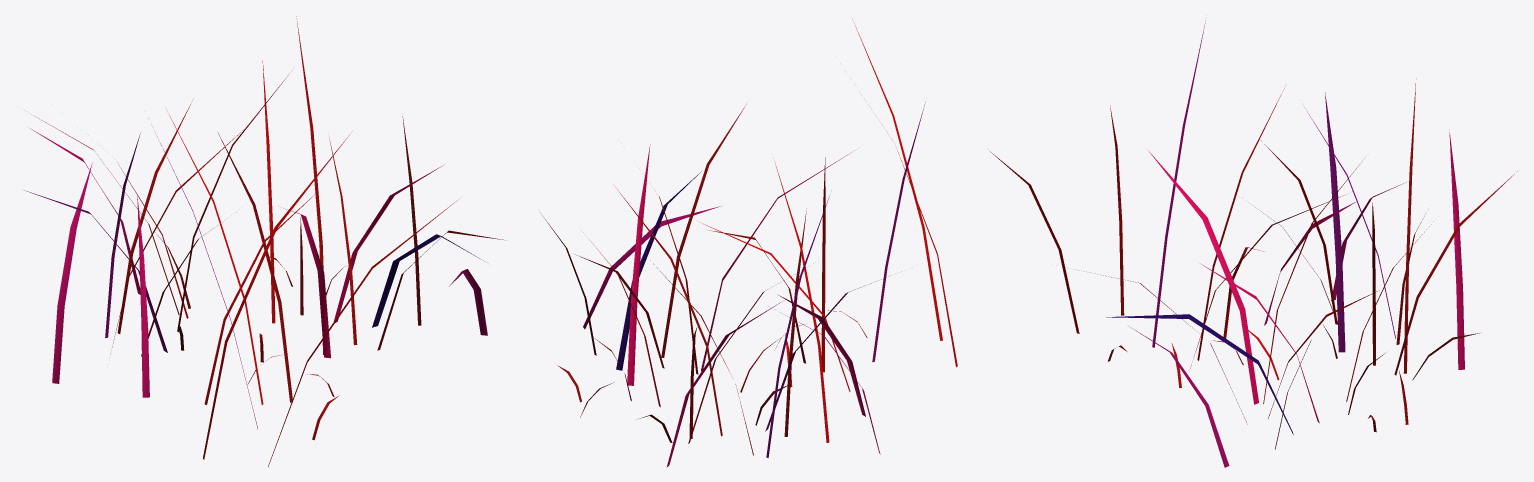
File: GrassTuft1.glb
3 views of the same model, side by side, from view 1: azimuth 30°, elevation 25°; view 2: azimuth 150°, elevation 25°; view 3: azimuth 270°, elevation 25° (orthographic). The views are drawn at different scales.
Parts seen in each view (by area): view 1: GrassTuft1_lod0; view 2: GrassTuft1_lod0; view 3: GrassTuft1_lod0.
Part boxes in pixels (bbox=[...]): GrassTuft1_lod0: bbox=[24, 16, 505, 467]; GrassTuft1_lod0: bbox=[542, 19, 957, 467]; GrassTuft1_lod0: bbox=[990, 20, 1517, 467].
Bounding box in the file's own units: 1.22 × 0.9016 × 1.48.
